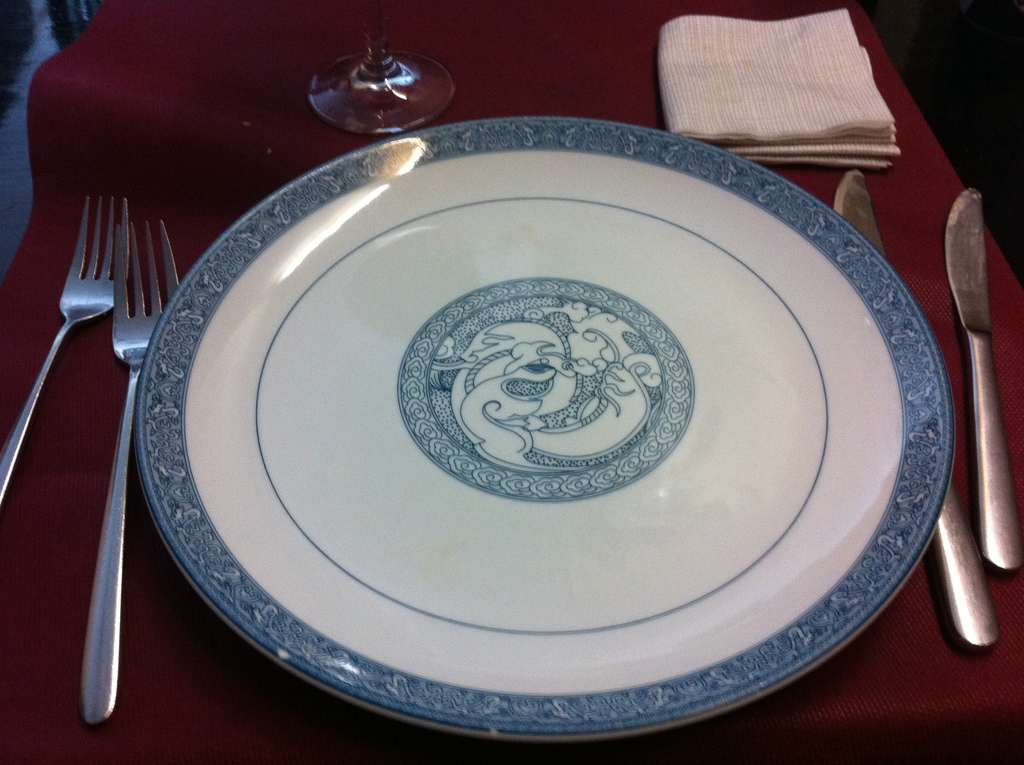plate: (135, 115, 955, 743)
